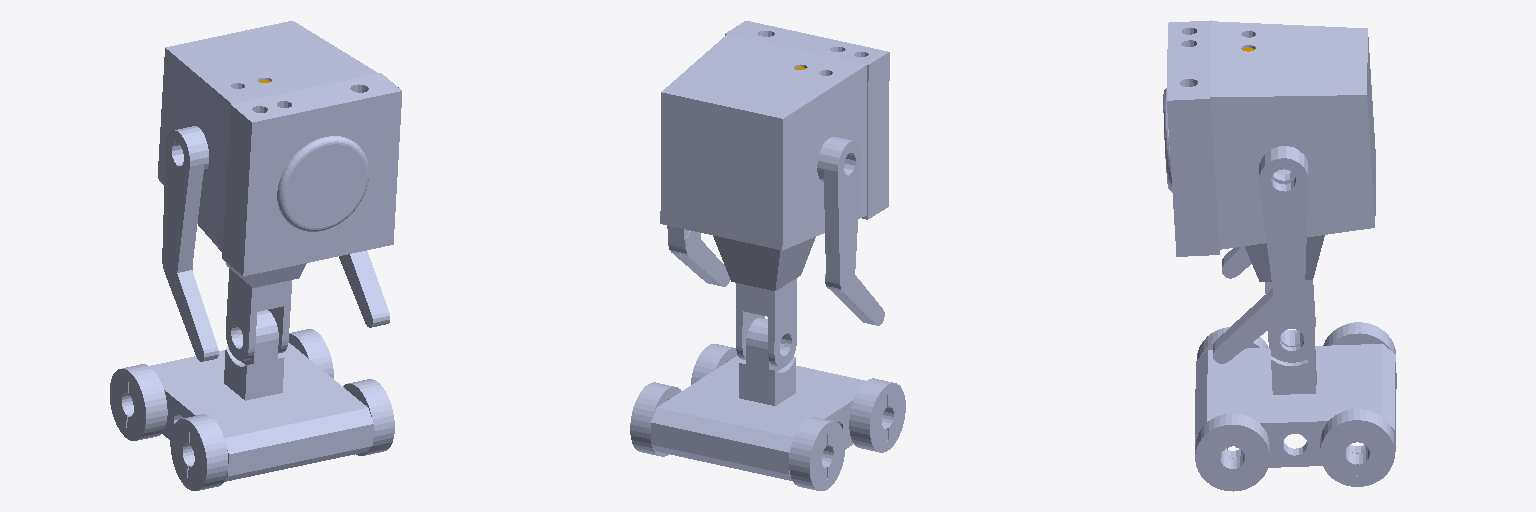
The robot description file, URDF, robot "butter_robot_edrom_version":
<?xml version="1.0" encoding="utf-8"?>
<!-- This URDF was automatically created by SolidWorks to URDF Exporter! Originally created by [author] ([email redacted]) 
     Commit Version: 1.5.1-0-g916b5db  Build Version: 1.5.7152.31018
     For more information, please see http://wiki.ros.org/sw_urdf_exporter -->
<robot
  name="butter_robot_edrom_version">
  
<!-- Adiciona o Plugin da Camera -->
  <gazebo reference="camera_link">
    <sensor type="camera" name="camera">
      <update_rate>30.0</update_rate>
      <camera name="head">   <!-- nao altere o nome onde esta escrito head -->
        <horizontal_fov>1.3962634</horizontal_fov>
        <image>
          <width>800</width>
          <height>800</height>
          <format>R8G8B8</format>
        </image>
        <clip>
          <near>0.02</near>
          <far>300</far>
        </clip>
        <noise>
          <type>gaussian</type>
          <mean>0.0</mean>
          <stddev>0.007</stddev>
        </noise>
      </camera>
      <plugin name="camera_controller" filename="libgazebo_ros_camera.so">
        <alwaysOn>true</alwaysOn>
        <updateRate>0.0</updateRate>
        <cameraName>/frank/camera</cameraName>
        <imageTopicName>image_raw</imageTopicName>
        <cameraInfoTopicName>camera_info</cameraInfoTopicName>
        <frameName>camera_link</frameName>
        <hackBaseline>0.07</hackBaseline>
        <distortionK1>0.0</distortionK1>
        <distortionK2>0.0</distortionK2>
        <distortionK3>0.0</distortionK3>
        <distortionT1>0.0</distortionT1>
        <distortionT2>0.0</distortionT2>
      </plugin>
    </sensor>
  </gazebo>

   <!-- Faz a camera aparecer no modelo -->
  <link name="camera_link">
    <visual>
      <origin xyz="0 0 0" rpy="0 0 0"/>
      <geometry>
    <box size="0.01 0.01 0.01"/>   <!-- Gera o tamanho do bloco que virtualiza a camera-->
      </geometry>
      <material name="red"/>
    </visual>

    <inertial>
      <mass value="1e-5" />
      <origin xyz="0 0 0" rpy="0 0 0"/>
      <inertia ixx="1e-6" ixy="0" ixz="0" iyy="1e-6" iyz="0" izz="1e-6" />
    </inertial>
  </link>
  
  <joint name="camera_joint" type="fixed">
    <axis xyz="0 0 1" />
    <origin xyz="0.00429900271088217 -0.0600078441942872 0.0554853797911345" rpy="3.1410 3.1410 1.5707"/>   <!-- Ponto de origem e eixo de visualizacao da camera -->
    <parent link="base_link"/>   <!-- Vincula a referencia da peca a referencia da camera. Onde esta "head" adicione o nome da sua peca -->
    <child link="camera_link"/>
  </joint>
  
  
  <link
    name="base_link">
    <inertial>
      <origin
        xyz="0.00429900271088217 0.000330078441942872 0.0554853797911345"
        rpy="0 0 0" />
      <mass
        value="0.00393574329414396" />
      <inertia
        ixx="4.49832345221081E-07"
        ixy="5.57169857796941E-09"
        ixz="1.28918769379355E-09"
        iyy="6.54451885162872E-07"
        iyz="1.46565294484842E-08"
        izz="3.11672940536797E-07" />
    </inertial>
    <visual>
      <origin
        xyz="0 0 0"
        rpy="0 0 0" />
      <geometry>
        <mesh
          filename="package://butter_robot_edrom_version/meshes/base_link.STL" />
      </geometry>
      <material
        name="">
        <color
          rgba="0.792156862745098 0.819607843137255 0.933333333333333 1" />
      </material>
    </visual>
    <collision>
      <origin
        xyz="0 0 0"
        rpy="0 0 0" />
      <geometry>
        <mesh
          filename="package://butter_robot_edrom_version/meshes/base_link.STL" />
      </geometry>
    </collision>
  </link>
  <link
    name="roda_dir_inf_Link">
    <inertial>
      <origin
        xyz="0 6.50521303491303E-19 -0.00207370804147"
        rpy="0 0 0" />
      <mass
        value="0.000401432525904627" />
      <inertia
        ixx="4.54808924620685E-09"
        ixy="0"
        ixz="1.29731646851578E-24"
        iyy="4.55489666187263E-09"
        iyz="-7.83155863154453E-25"
        izz="8.035651654256E-09" />
    </inertial>
    <visual>
      <origin
        xyz="0 0 0"
        rpy="0 0 0" />
      <geometry>
        <mesh
          filename="package://butter_robot_edrom_version/meshes/roda_dir_inf_Link.STL" />
      </geometry>
      <material
        name="">
        <color
          rgba="0.792156862745098 0.819607843137255 0.933333333333333 1" />
      </material>
    </visual>
    <collision>
      <origin
        xyz="0 0 0"
        rpy="0 0 0" />
      <geometry>
        <mesh
          filename="package://butter_robot_edrom_version/meshes/roda_dir_inf_Link.STL" />
      </geometry>
    </collision>
  </link>
  <joint
    name="roda_dir_inf"
    type="continuous">
    <origin
      xyz="-0.00909432320128014 -0.045333574135654 -0.000632028552777854"
      rpy="1.59846873515134 -0.0289421046717752 1.56359268525581" />
    <parent
      link="base_link" />
    <child
      link="roda_dir_inf_Link" />
    <axis
      xyz="0 0 1" />
  </joint>
  <link
    name="roda_esq_inf_Link">
    <inertial>
      <origin
        xyz="-6.93889390390723E-18 4.33680868994202E-19 0.00207373662201797"
        rpy="0 0 0" />
      <mass
        value="0.000401432525904627" />
      <inertia
        ixx="4.54808924620684E-09"
        ixy="7.10858338912758E-26"
        ixz="2.13903736527385E-24"
        iyy="4.55489666187263E-09"
        iyz="3.13373416877236E-25"
        izz="8.03565165425599E-09" />
    </inertial>
    <visual>
      <origin
        xyz="0 0 0"
        rpy="0 0 0" />
      <geometry>
        <mesh
          filename="package://butter_robot_edrom_version/meshes/roda_esq_inf_Link.STL" />
      </geometry>
      <material
        name="">
        <color
          rgba="0.792156862745098 0.819607843137255 0.933333333333333 1" />
      </material>
    </visual>
    <collision>
      <origin
        xyz="0 0 0"
        rpy="0 0 0" />
      <geometry>
        <mesh
          filename="package://butter_robot_edrom_version/meshes/roda_esq_inf_Link.STL" />
      </geometry>
    </collision>
  </link>
  <joint
    name="roda_esq_inf"
    type="continuous">
    <origin
      xyz="0.0177474098827506 -0.0455054347416066 -0.00137469744145888"
      rpy="1.59845853450625 -0.0100284554753815 1.56411620014391" />
    <parent
      link="base_link" />
    <child
      link="roda_esq_inf_Link" />
    <axis
      xyz="0 0 1" />
  </joint>
  <link
    name="roda_dir_fre_Link">
    <inertial>
      <origin
        xyz="-1.38777878078145E-17 2.38524477946811E-18 -0.00207370804146999"
        rpy="0 0 0" />
      <mass
        value="0.000401432525904627" />
      <inertia
        ixx="4.54808924620685E-09"
        ixy="-3.87740912134232E-26"
        ixz="-3.8160168102544E-24"
        iyy="4.55489666187263E-09"
        iyz="-3.77845440939139E-24"
        izz="8.035651654256E-09" />
    </inertial>
    <visual>
      <origin
        xyz="0 0 0"
        rpy="0 0 0" />
      <geometry>
        <mesh
          filename="package://butter_robot_edrom_version/meshes/roda_dir_fre_Link.STL" />
      </geometry>
      <material
        name="">
        <color
          rgba="0.792156862745098 0.819607843137255 0.933333333333333 1" />
      </material>
    </visual>
    <collision>
      <origin
        xyz="0 0 0"
        rpy="0 0 0" />
      <geometry>
        <mesh
          filename="package://butter_robot_edrom_version/meshes/roda_dir_fre_Link.STL" />
      </geometry>
    </collision>
  </link>
  <joint
    name="roda_dir_fre"
    type="continuous">
    <origin
      xyz="-0.00924578576017018 -0.0653149154667465 -0.00148235655045012"
      rpy="1.59846873515134 -0.0289421046717683 1.56359268525582" />
    <parent
      link="base_link" />
    <child
      link="roda_dir_fre_Link" />
    <axis
      xyz="0 0 1" />
  </joint>
  <link
    name="roda_esq_frent_Link">
    <inertial>
      <origin
        xyz="-1.38777878078145E-17 -1.73472347597681E-18 0.0020596481580519"
        rpy="0 0 0" />
      <mass
        value="0.000401432525904627" />
      <inertia
        ixx="4.54808924620685E-09"
        ixy="2.58493941422821E-25"
        ixz="-1.06628750836914E-25"
        iyy="4.55489666187263E-09"
        iyz="-8.87058310702923E-25"
        izz="8.035651654256E-09" />
    </inertial>
    <visual>
      <origin
        xyz="0 0 0"
        rpy="0 0 0" />
      <geometry>
        <mesh
          filename="package://butter_robot_edrom_version/meshes/roda_esq_frent_Link.STL" />
      </geometry>
      <material
        name="">
        <color
          rgba="0.792156862745098 0.819607843137255 0.933333333333333 1" />
      </material>
    </visual>
    <collision>
      <origin
        xyz="0 0 0"
        rpy="0 0 0" />
      <geometry>
        <mesh
          filename="package://butter_robot_edrom_version/meshes/roda_esq_frent_Link.STL" />
      </geometry>
    </collision>
  </link>
  <joint
    name="roda_esq_frent"
    type="continuous">
    <origin
      xyz="0.0176100301098227 -0.0654868662410991 -0.00222541508785343"
      rpy="-1.59849870437435 -0.0547771462049383 -1.57568189273198" />
    <parent
      link="base_link" />
    <child
      link="roda_esq_frent_Link" />
    <axis
      xyz="0 0 1" />
  </joint>
  <link
    name="junta_inf_Link">
    <inertial>
      <origin
        xyz="-0.00520984743524376 -0.0319093643038402 0.00283033734053024"
        rpy="0 0 0" />
      <mass
        value="0.0126761209831532" />
      <inertia
        ixx="1.25924346591142E-06"
        ixy="-6.72218283521542E-09"
        ixz="1.05272765146392E-09"
        iyy="1.2665127702767E-06"
        iyz="9.29174578622249E-09"
        izz="1.69119198168719E-06" />
    </inertial>
    <visual>
      <origin
        xyz="0 0 0"
        rpy="0 0 0" />
      <geometry>
        <mesh
          filename="package://butter_robot_edrom_version/meshes/junta_inf_Link.STL" />
      </geometry>
      <material
        name="">
        <color
          rgba="0.792156862745098 0.819607843137255 0.933333333333333 1" />
      </material>
    </visual>
    <collision>
      <origin
        xyz="0 0 0"
        rpy="0 0 0" />
      <geometry>
        <mesh
          filename="package://butter_robot_edrom_version/meshes/junta_inf_Link.STL" />
      </geometry>
    </collision>
  </link>
  <joint
    name="junta_inf"
    type="continuous">
    <origin
      xyz="0 -0.0559783796570403 0.0126818729036873"
      rpy="-1.62635175793315 -0.0276608163751402 3.13519000227837" />
    <parent
      link="base_link" />
    <child
      link="junta_inf_Link" />
    <axis
      xyz="1 0 0" />
  </joint>
  <link
    name="braco_esq_Link">
    <inertial>
      <origin
        xyz="0.00285549620586977 -0.013182698362745 -0.00102414846371802"
        rpy="0 0 0" />
      <mass
        value="0.000686513662248718" />
      <inertia
        ixx="7.68647126234043E-08"
        ixy="5.62411236956801E-10"
        ixz="2.37389600875504E-11"
        iyy="5.95748944372461E-09"
        iyz="3.14751989963956E-09"
        izz="7.23481174935265E-08" />
    </inertial>
    <visual>
      <origin
        xyz="0 0 0"
        rpy="0 0 0" />
      <geometry>
        <mesh
          filename="package://butter_robot_edrom_version/meshes/braco_esq_Link.STL" />
      </geometry>
      <material
        name="">
        <color
          rgba="0.792156862745098 0.819607843137255 0.933333333333333 1" />
      </material>
    </visual>
    <collision>
      <origin
        xyz="0 0 0"
        rpy="0 0 0" />
      <geometry>
        <mesh
          filename="package://butter_robot_edrom_version/meshes/braco_esq_Link.STL" />
      </geometry>
    </collision>
  </link>
  <joint
    name="braco_esq"
    type="continuous">
    <origin
      xyz="-0.0178240805318439 -0.0354260756077894 -0.000749940320395943"
      rpy="-0.203708900614049 0 3.14159265358979" />
    <parent
      link="junta_inf_Link" />
    <child
      link="braco_esq_Link" />
    <axis
      xyz="1 0 0" />
  </joint>
  <link
    name="braco_dir_Link">
    <inertial>
      <origin
        xyz="-0.00260519959050656 -0.0131370060205366 -0.00102360210972865"
        rpy="0 0 0" />
      <mass
        value="0.000584067976024174" />
      <inertia
        ixx="6.55456446981842E-08"
        ixy="-5.16733951841109E-10"
        ixz="-2.31927861365446E-11"
        iyy="4.92474058166378E-09"
        iyz="2.61591498057086E-09"
        izz="6.1546878119059E-08" />
    </inertial>
    <visual>
      <origin
        xyz="0 0 0"
        rpy="0 0 0" />
      <geometry>
        <mesh
          filename="package://butter_robot_edrom_version/meshes/braco_dir_Link.STL" />
      </geometry>
      <material
        name="">
        <color
          rgba="0.792156862745098 0.819607843137255 0.933333333333333 1" />
      </material>
    </visual>
    <collision>
      <origin
        xyz="0 0 0"
        rpy="0 0 0" />
      <geometry>
        <mesh
          filename="package://butter_robot_edrom_version/meshes/braco_dir_Link.STL" />
      </geometry>
    </collision>
  </link>
  <joint
    name="braco_dir"
    type="continuous">
    <origin
      xyz="0.0075475031519509 -0.0354260756077949 -0.000749940320397491"
      rpy="-0.16604963710819 0 3.14159265358979" />
    <parent
      link="junta_inf_Link" />
    <child
      link="braco_dir_Link" />
    <axis
      xyz="1 0 0" />
  </joint>
</robot>

--- What the picture shows (computed from the rendered views, not written in the file) ---
Views: 3 orthographic renders of the robot side by side, from view 1: azimuth 30°, elevation 25°; view 2: azimuth 150°, elevation 25°; view 3: azimuth 270°, elevation 25°.
Robot: butter_robot_edrom_version — 9 links, 8 joints (7 continuous, 1 fixed); root link base_link; default pose: every joint at zero.
Visible links, largest first — view 1: junta_inf_Link, base_link, braco_dir_Link, roda_dir_inf_Link, roda_dir_fre_Link, braco_esq_Link, roda_esq_frent_Link, roda_esq_inf_Link; view 2: junta_inf_Link, base_link, braco_dir_Link, roda_dir_fre_Link, roda_dir_inf_Link, braco_esq_Link, roda_esq_inf_Link, roda_esq_frent_Link; view 3: junta_inf_Link, base_link, braco_esq_Link, roda_esq_inf_Link, roda_esq_frent_Link, roda_dir_inf_Link, braco_dir_Link.
Link boxes in pixels (x1,y1,x2,y2): junta_inf_Link: [158, 21, 401, 360]; base_link: [150, 310, 373, 481]; braco_dir_Link: [162, 126, 218, 361]; roda_dir_inf_Link: [110, 364, 167, 440]; roda_dir_fre_Link: [170, 414, 227, 490]; braco_esq_Link: [339, 251, 389, 327]; roda_esq_frent_Link: [343, 379, 394, 455]; roda_esq_inf_Link: [289, 329, 333, 378]; junta_inf_Link: [660, 21, 889, 367]; base_link: [651, 318, 865, 480]; braco_dir_Link: [817, 137, 884, 325]; roda_dir_fre_Link: [849, 378, 905, 452]; roda_dir_inf_Link: [789, 417, 845, 490]; braco_esq_Link: [667, 225, 729, 286]; roda_esq_inf_Link: [630, 382, 681, 456]; roda_esq_frent_Link: [691, 344, 737, 384]; junta_inf_Link: [1163, 20, 1375, 361]; base_link: [1195, 331, 1396, 467]; braco_esq_Link: [1213, 146, 1308, 363]; roda_esq_inf_Link: [1320, 409, 1394, 486]; roda_esq_frent_Link: [1195, 413, 1269, 491]; roda_dir_inf_Link: [1323, 322, 1395, 353]; braco_dir_Link: [1222, 246, 1251, 278].
Size in the robot's own frame: 0.0369 by 0.0374 by 0.0697 metres.
Meshes: 8 distinct files referenced, 8 mesh visuals loaded (8 binary STL).
